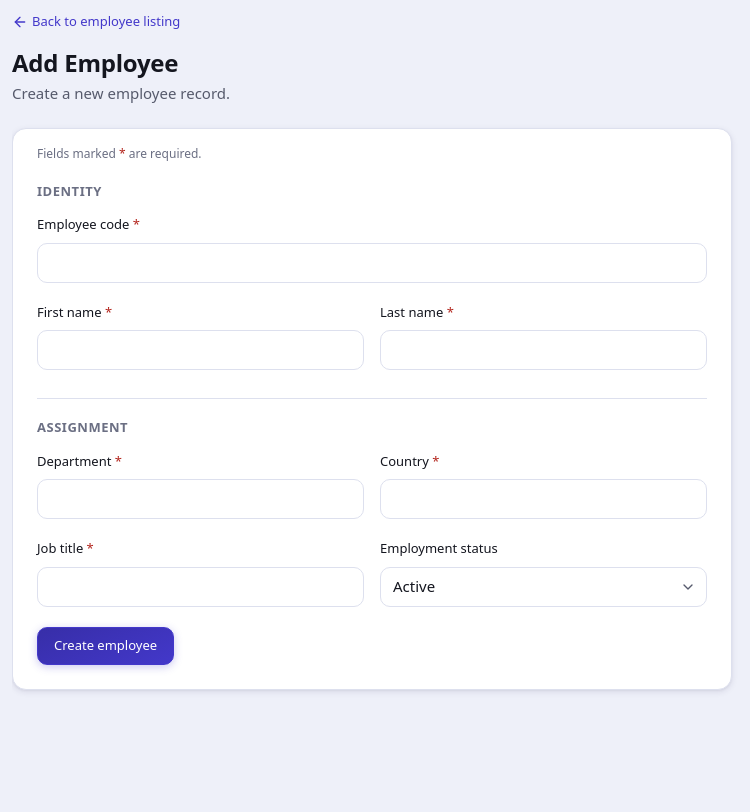
Scenario: EmployeeCreatePage › shows required-field validation errors and does not submit when fields are empty
Click the button "Create employee" at (106, 646), box [37, 626, 174, 664]
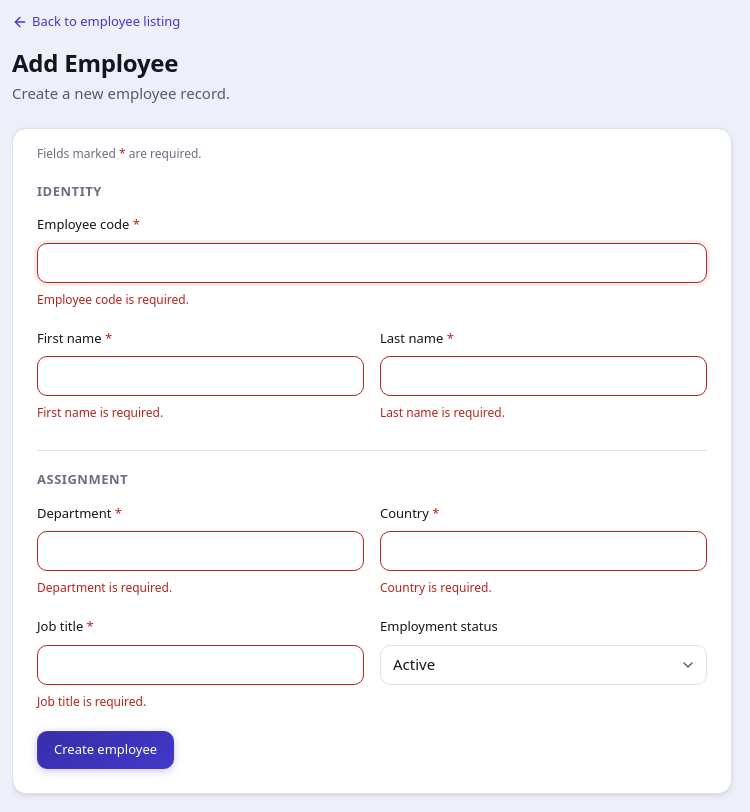
Expected: the text "Employee code is required." is shown, [37, 291, 189, 308]
Expected: the text "First name is required." is shown, [37, 404, 163, 421]
Expected: the text "Last name is required." is shown, [380, 404, 505, 421]
